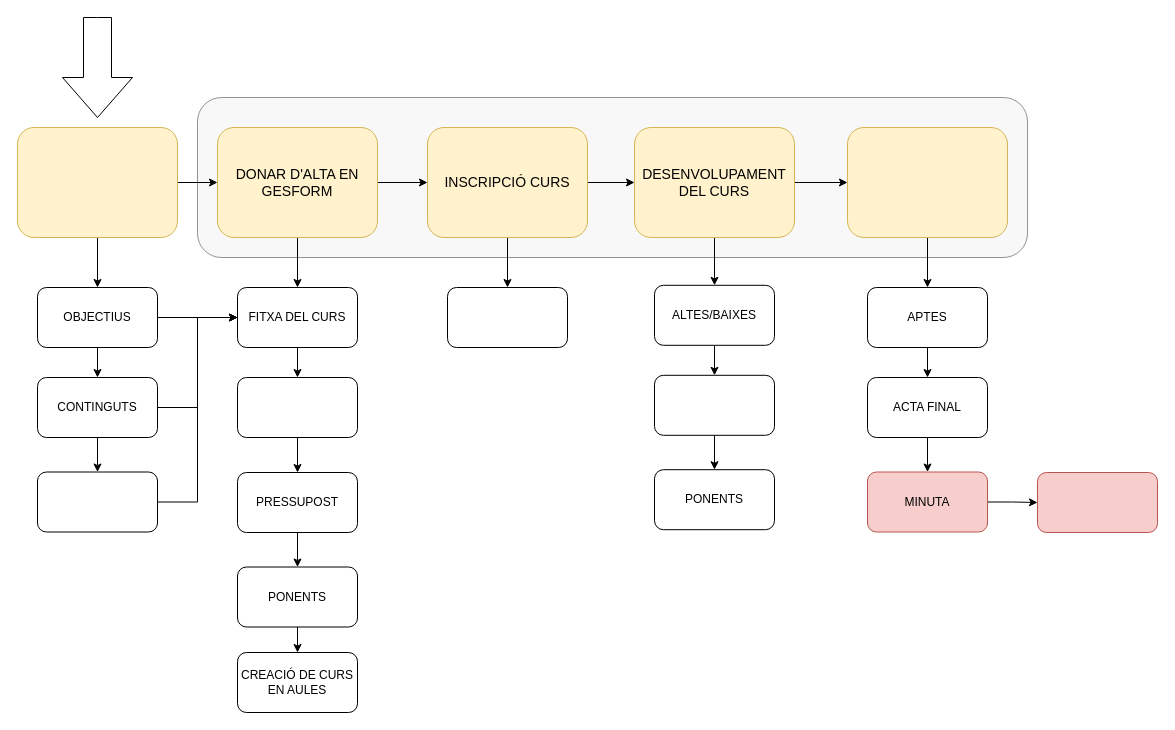
This 1175x730 diagram has some shape labels left out. The shapes that lost their labels are listed below. From the top down, each one's centre as x and y in pixels, then its label:
At point (97, 182): "DEFINICIÓ DE LA FORMACIÓ".
At point (927, 182): "TANCAMENT DEL CURS".
At point (507, 317): "TERMINI".
At point (297, 407): "Paricipants Hores Dates".
At point (714, 404): "GESTIÓ AULES".
At point (97, 501): "CONDICIONS".
At point (1097, 502): "PAGAMENT".
